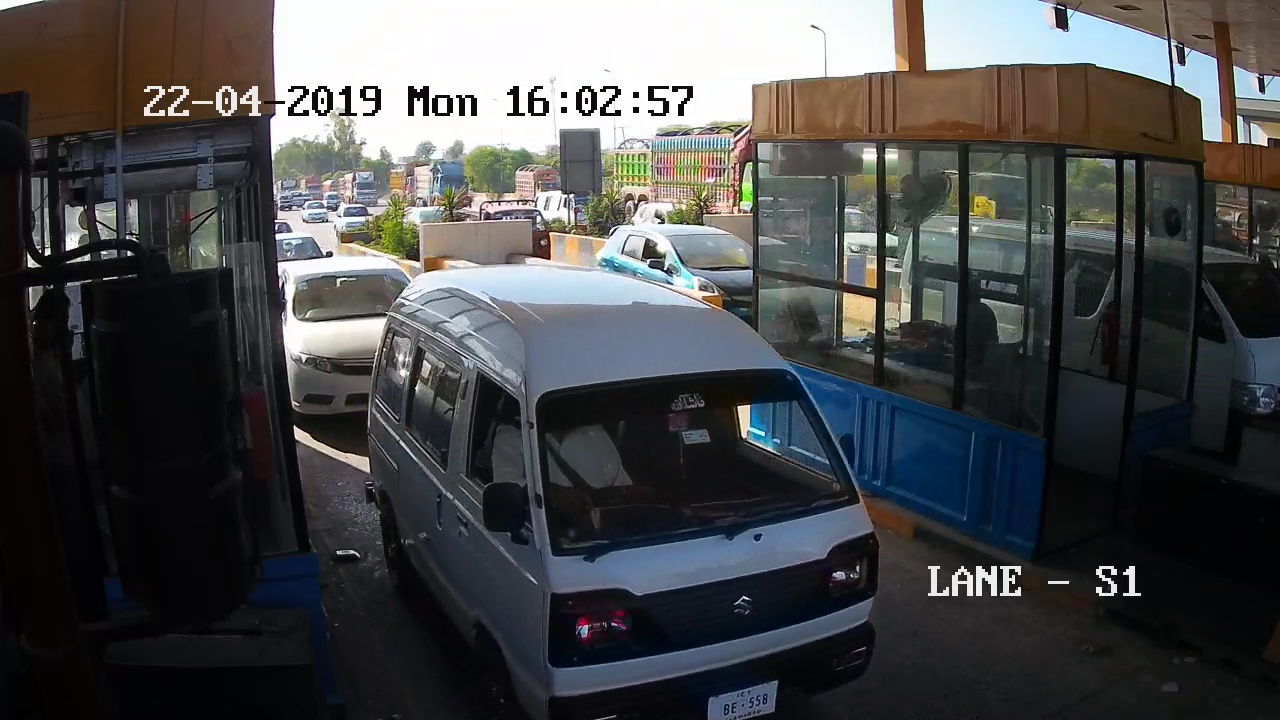car: (371, 285, 881, 720)
